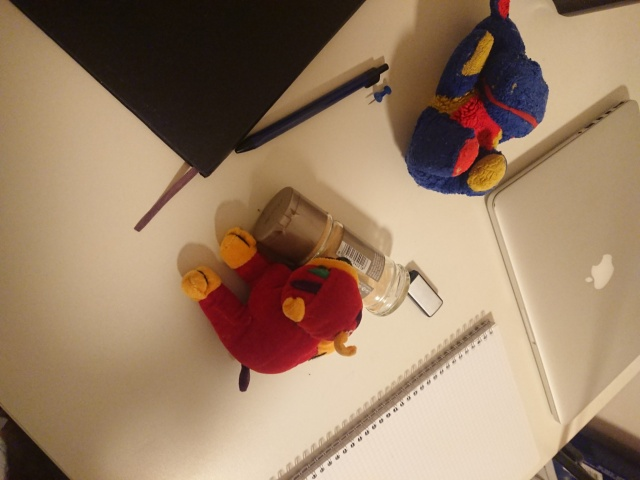Kotanyi Garlic Granules 70g: (251, 184, 412, 319)
